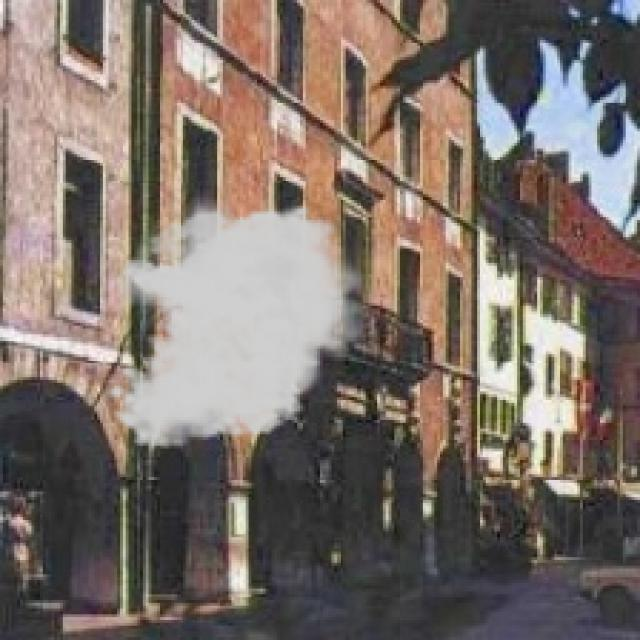Smoke: (106, 188, 374, 452)
